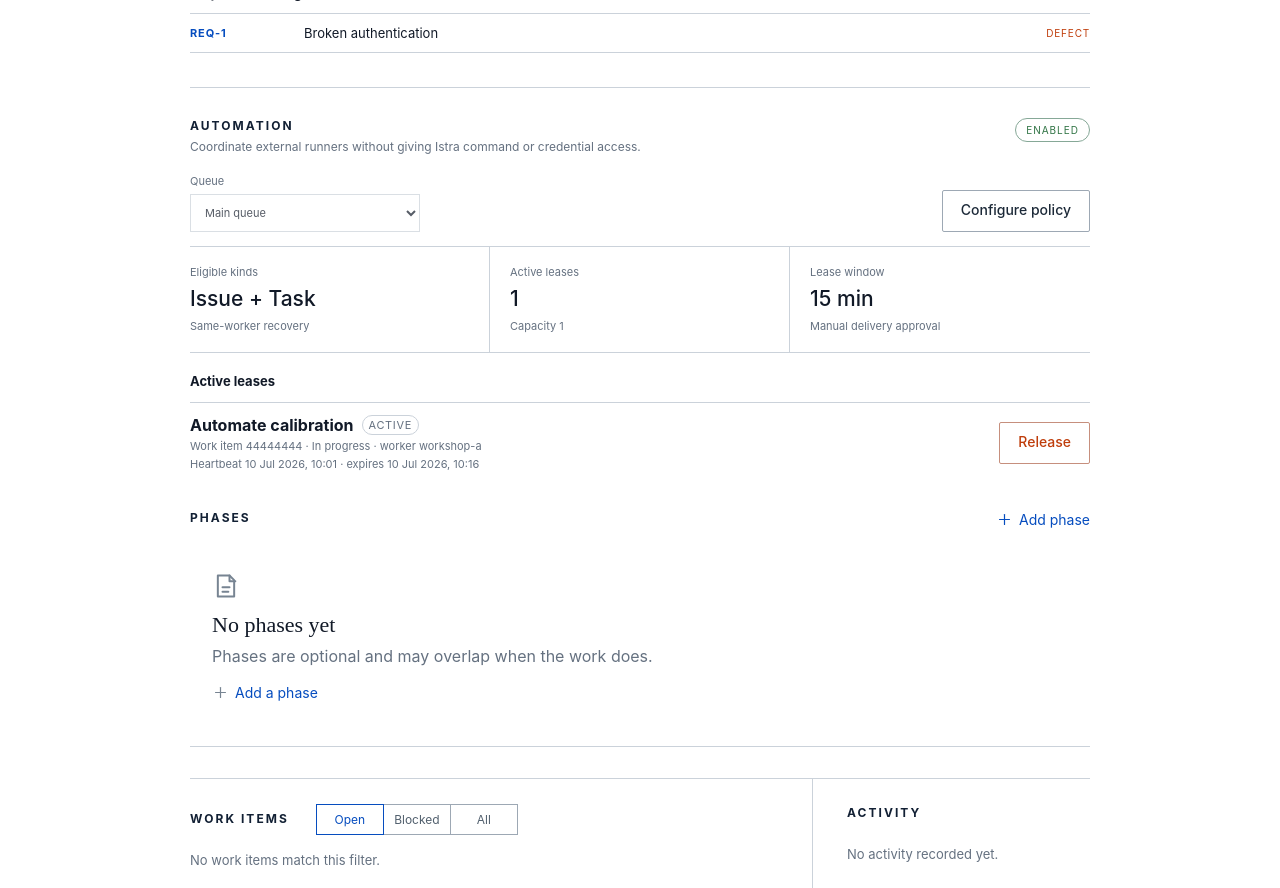
Test case: ProjectPage › shows active leases without tokens and confirms operator release
(page scrolled)
Expected: the text "Work item 44444444 · In progress · worker workshop-a" is shown, [190, 439, 482, 453]
Click the button with aria-label "Release lease for Automate calibration held by workshop-a": [1045, 443] box [999, 422, 1090, 464]
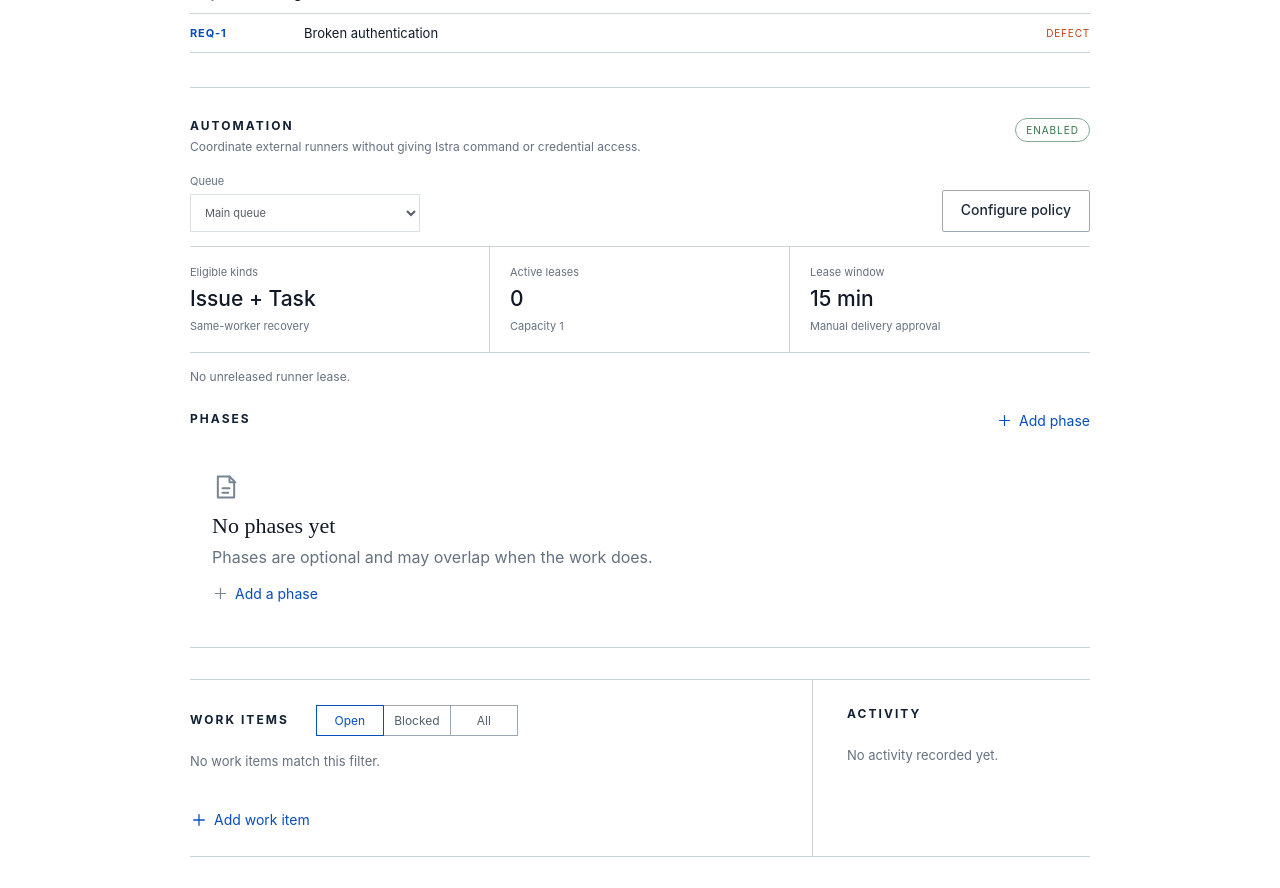
Expected: the text "workshop-a" is gone
